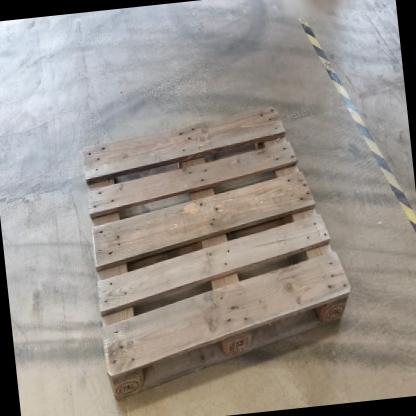BoxFace: (78, 98, 352, 410)
